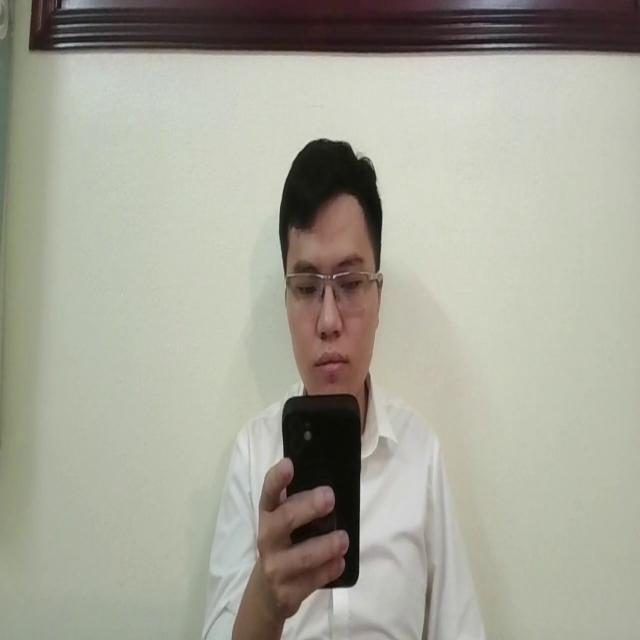phone: (283, 389, 364, 592)
student: (202, 128, 484, 640)
